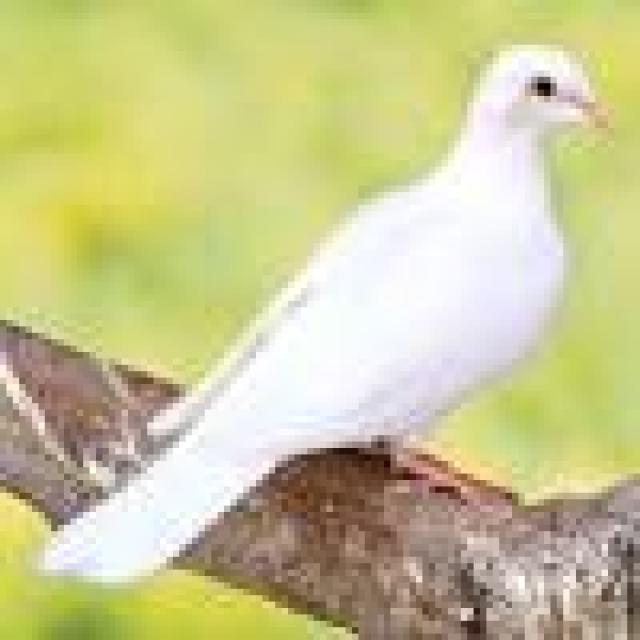pigeon: (40, 47, 621, 593)
